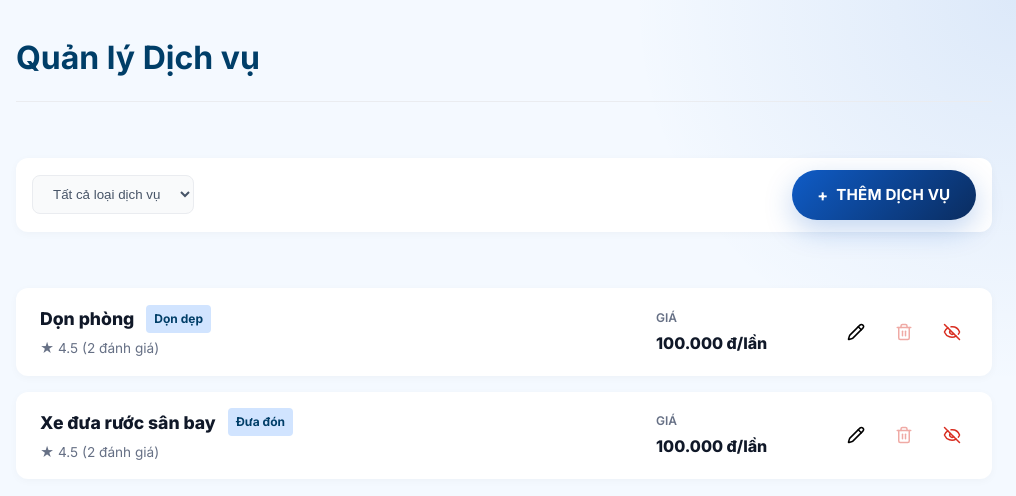
ServiceManagement › lọc theo category chỉ hiện đúng loại
This screenshot has width=1016, height=496.
Check: the text "Dọn phòng" is shown, box [40, 304, 134, 333]
Select "Đưa đón" in the dropdown at x=113, y=195, box [32, 176, 194, 214]
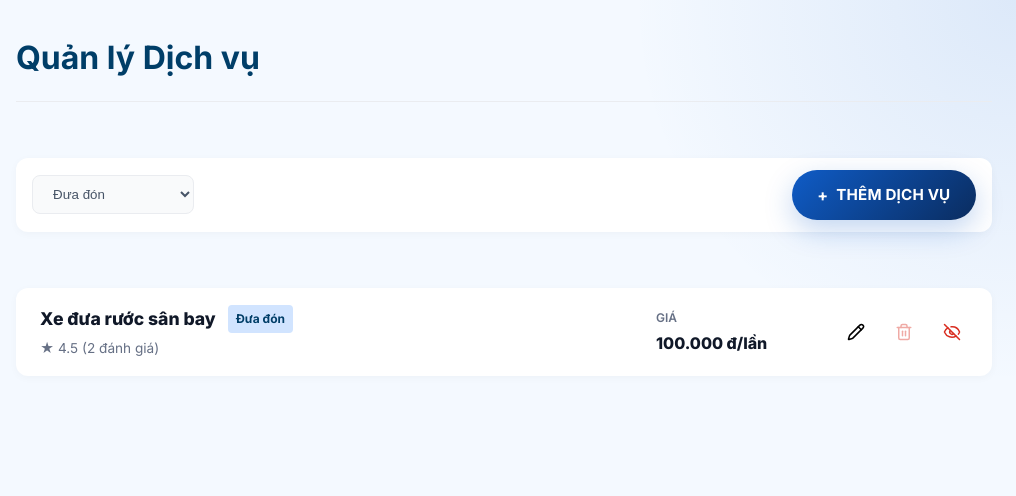
Check: the text "Xe đưa rước sân bay" is shown, box [40, 304, 216, 333]
Check: the text "Dọn phòng" is gone
